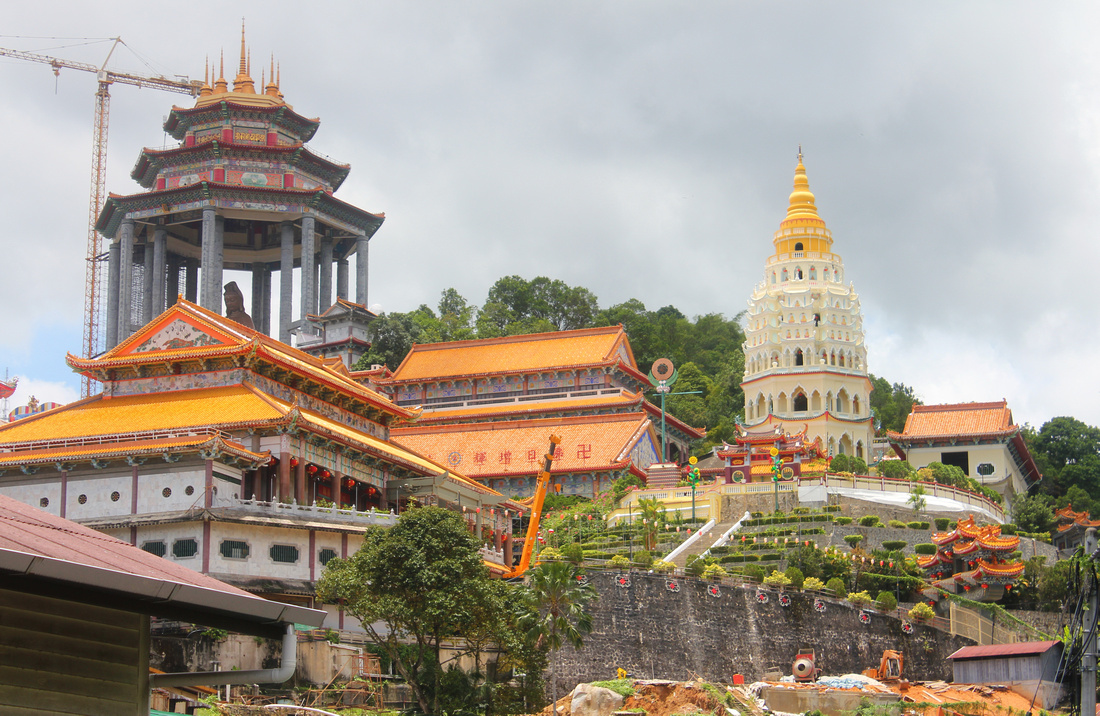Buddhist Temple: (84, 57, 1023, 648)
